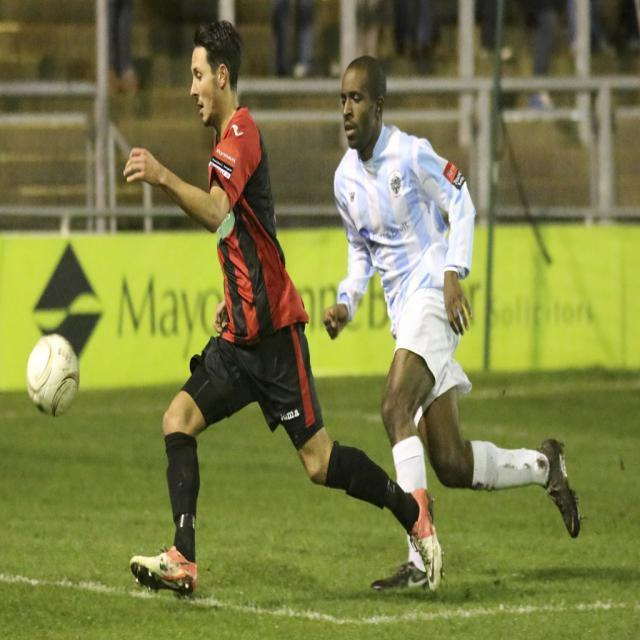football: (16, 327, 100, 425)
